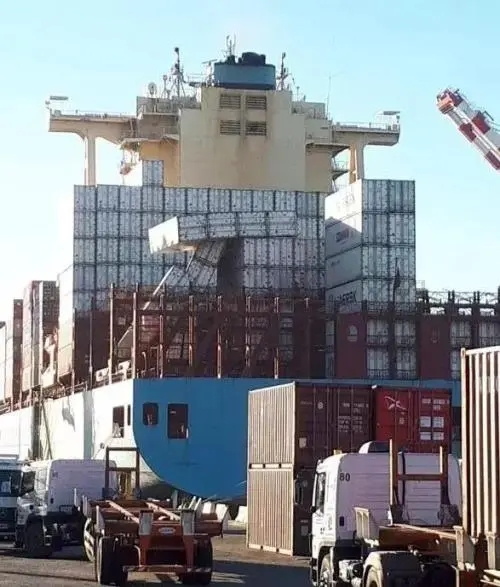Cargoship: (10, 39, 488, 500)
